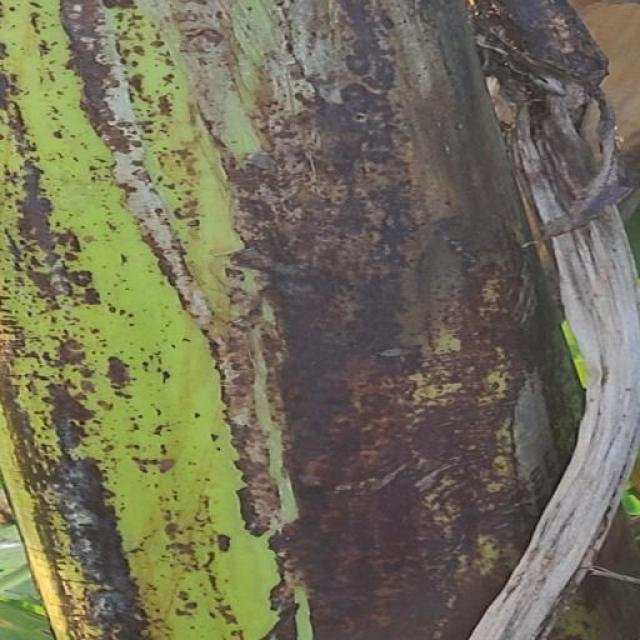Anthracnose: (2, 0, 632, 640)
